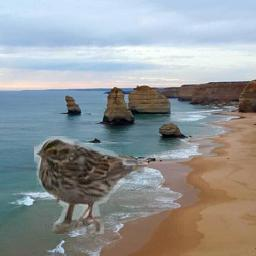Sparrow: (34, 136, 148, 234)
